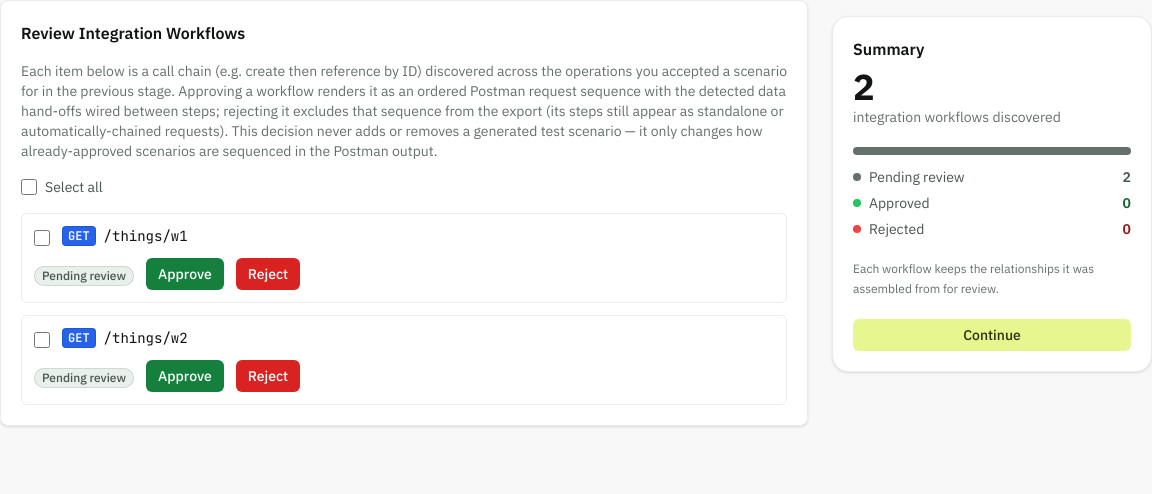
Test case: WorkflowReviewStage bulk actions › is keyboard-reachable and each bulk button has a distinguishing accessible name (FR-014, FR-015)
The width and height of the screenshot is (1152, 494).
Click the checkbox named "w1".
click(42, 238)  # box [34,230,50,246]
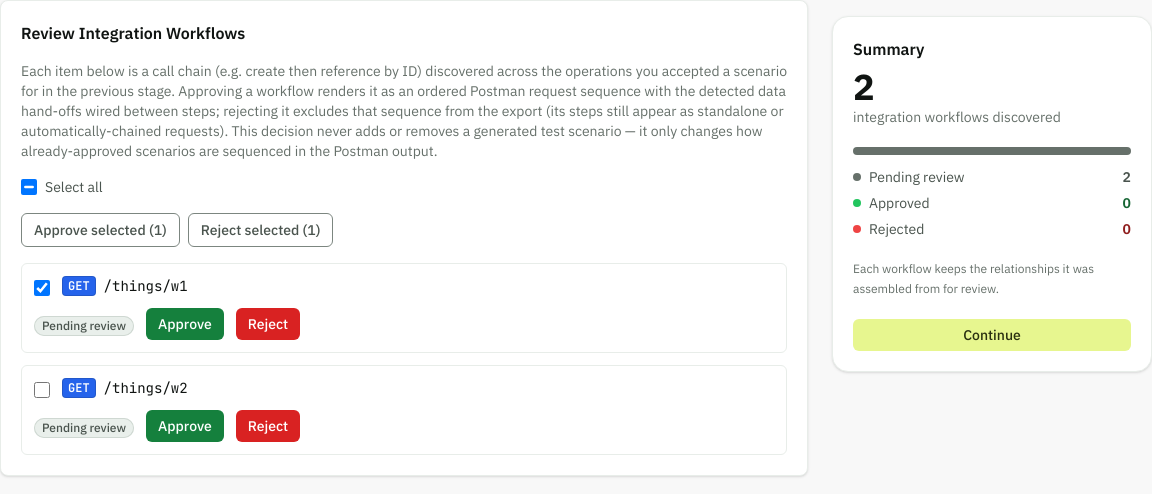
Click the checkbox named "w2".
click(42, 390)  # box [34,382,50,398]
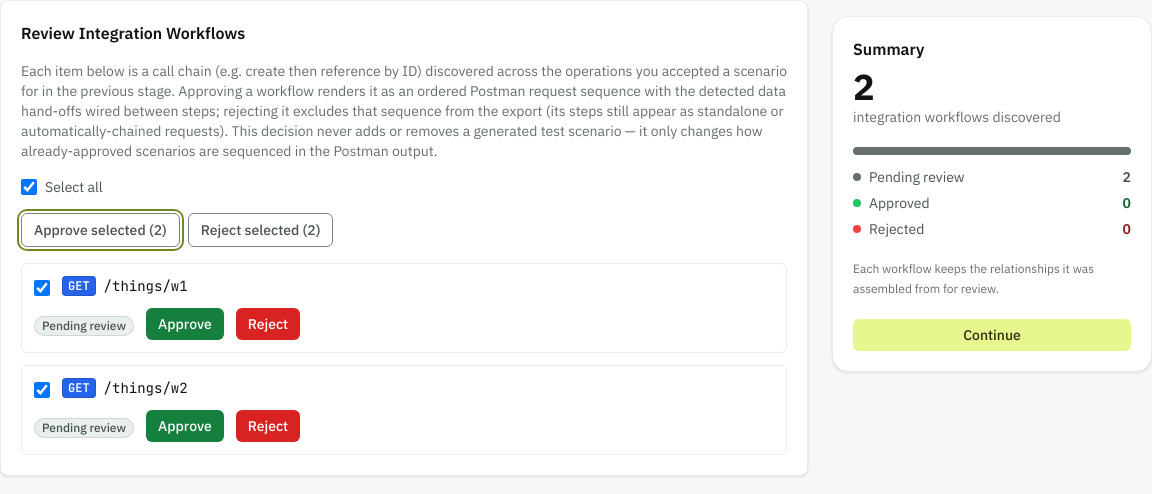
Check: the button "Approve selected (2)" is shown, box [21,213,180,247]
Check: the button "Reject selected (2)" is shown, box [188,213,333,247]
